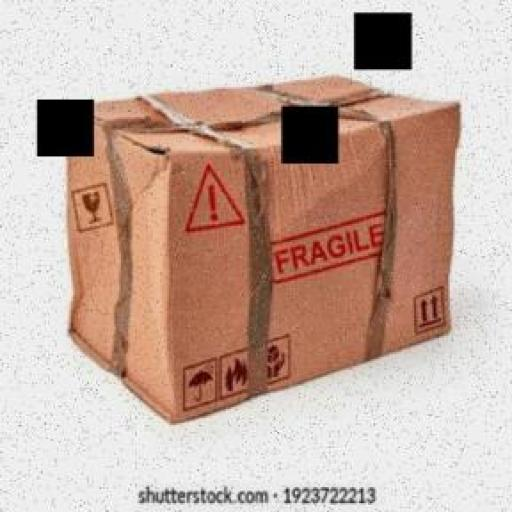box: (54, 74, 478, 428)
